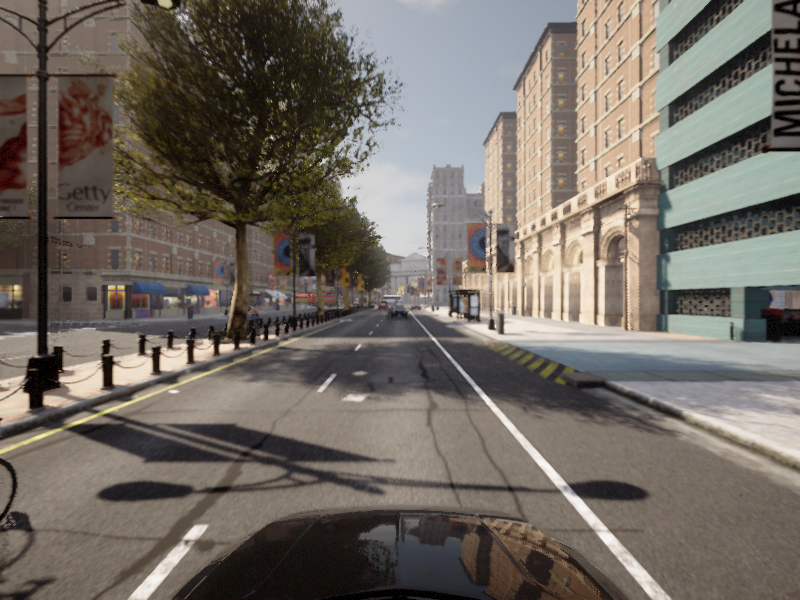vehicle: (1, 342, 50, 599), (245, 304, 263, 325), (231, 304, 250, 321), (386, 305, 408, 318)
